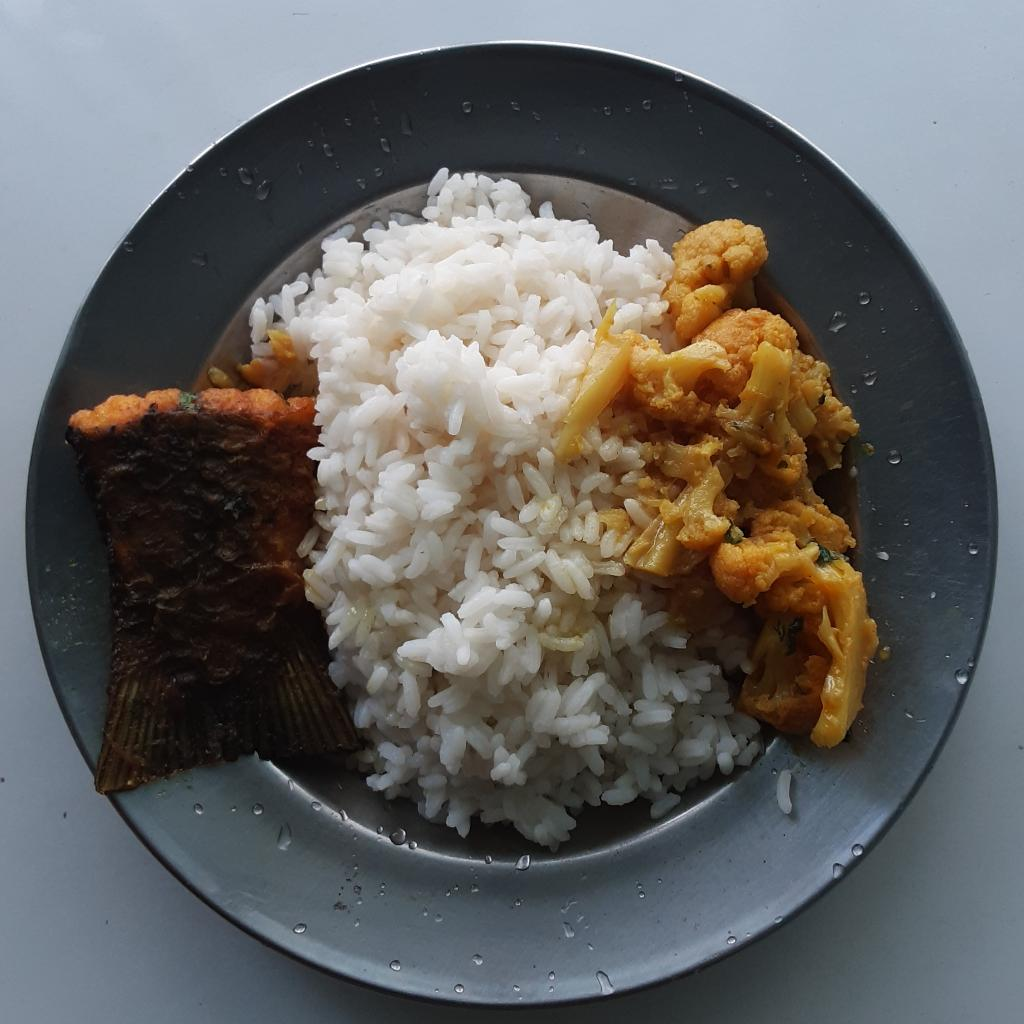cauliflower: (557, 209, 878, 755)
fish: (59, 388, 352, 797)
rice: (240, 169, 763, 848)
